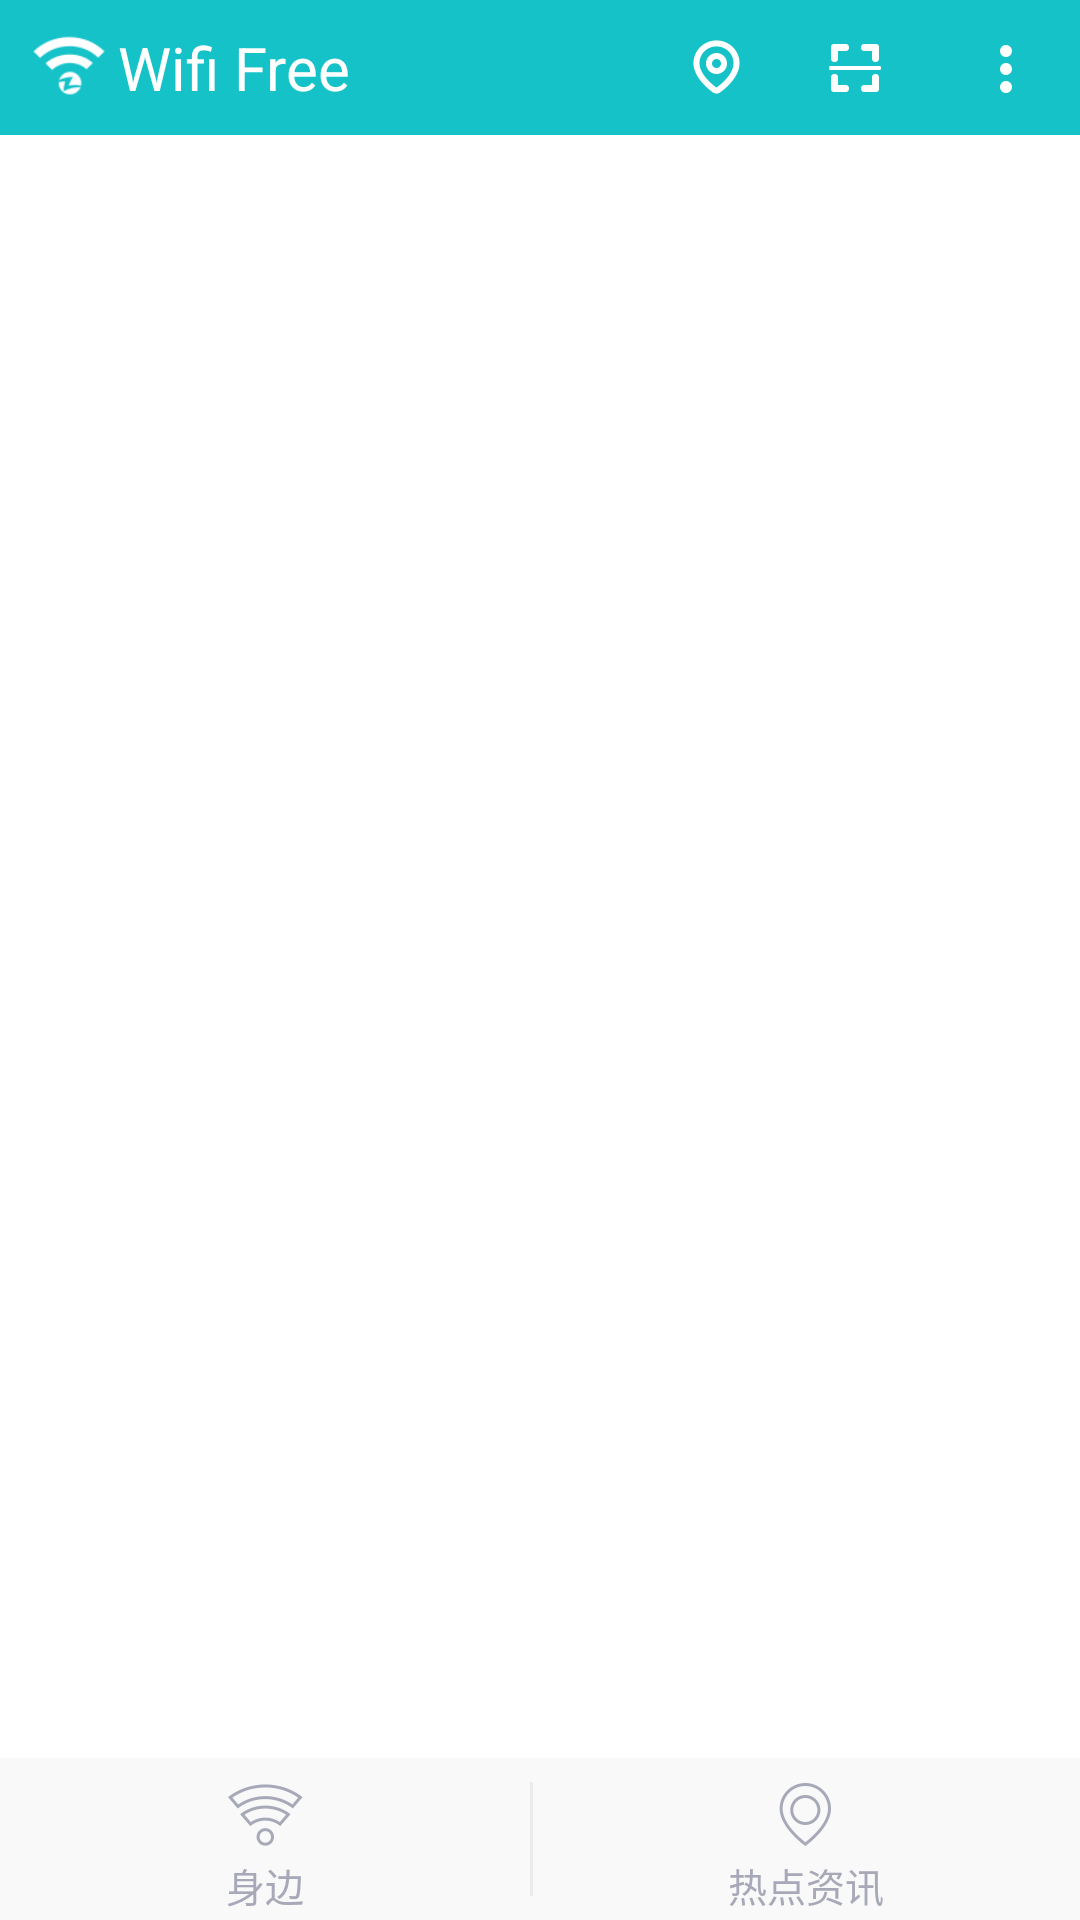

Named icons in this screenshot (1080 x 1920) and their bounding boxes, (x1, y1, x2, y2):
bar option: (1000, 45, 1012, 93)
